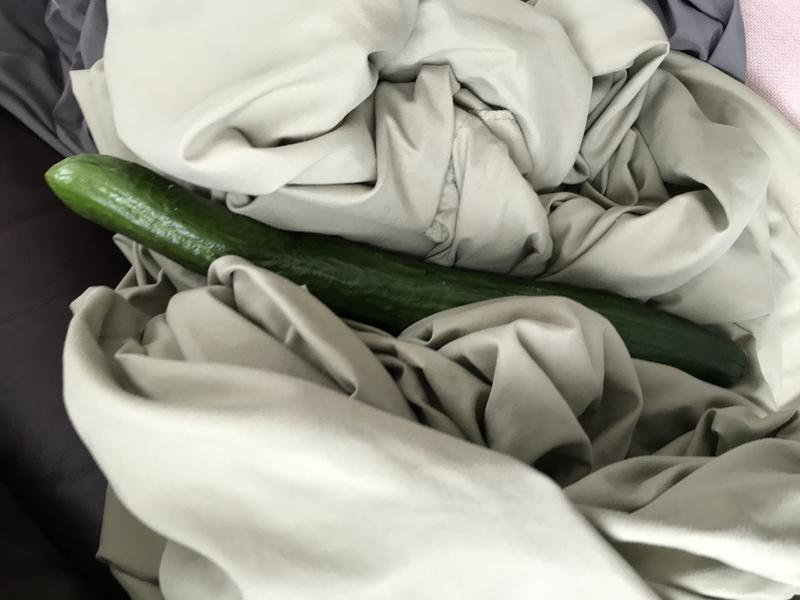cucumber: (29, 137, 768, 400)
